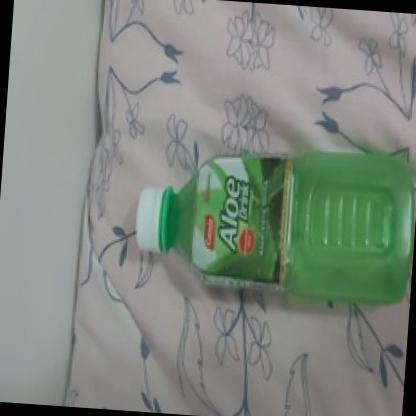plastic_bottles: (125, 144, 416, 300)
